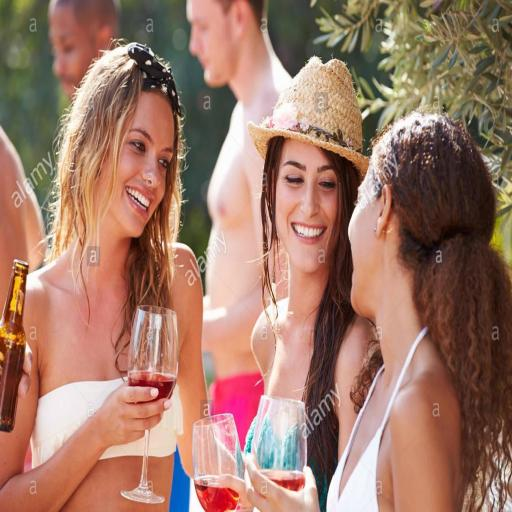person: (0, 44, 206, 510), (328, 113, 511, 511), (249, 58, 372, 510), (187, 0, 290, 440), (0, 127, 45, 300), (49, 0, 120, 97)
